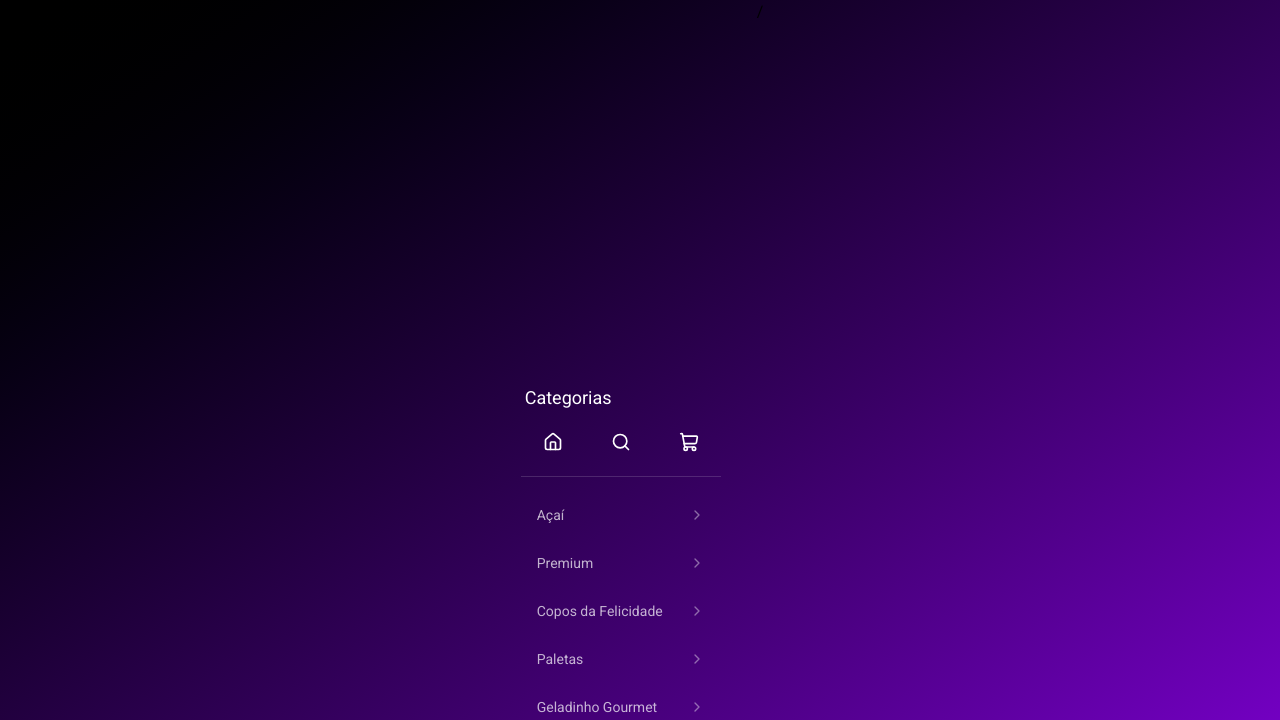
Scenario: AppContentShell › should offer common searches that fill the search input
Click the button named "Buscar" at (621, 442), box [589,420,653,464]
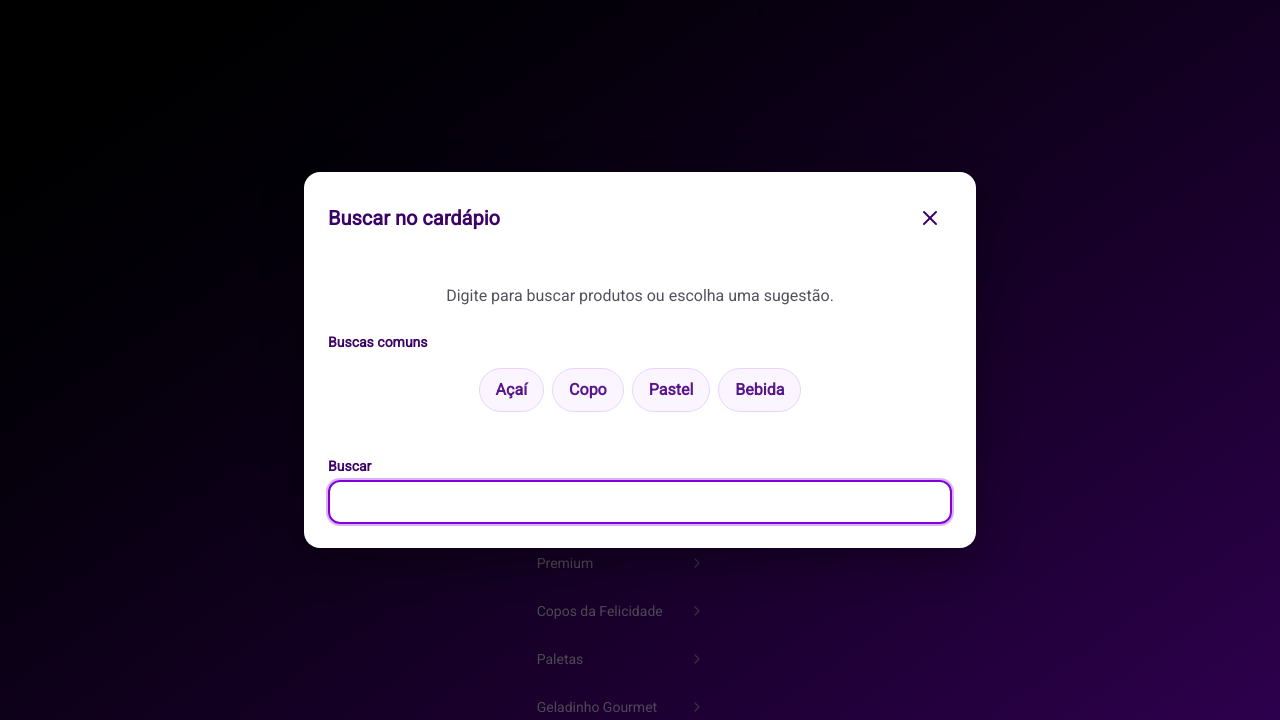
Result: the button "Açaí" is shown
Click the button "Açaí" at (511, 390), box [479,368,544,412]
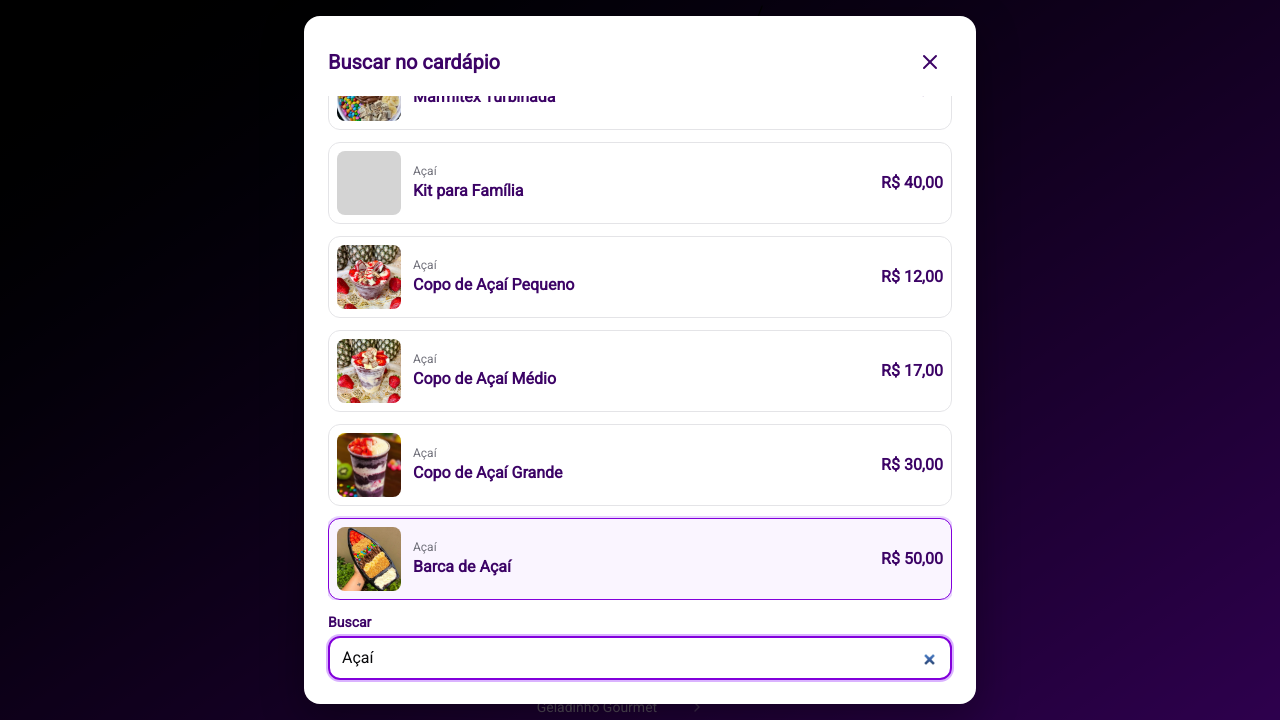
Result: the search field with id "menu-search-input" holds "Açaí" at [328,636,952,680]
